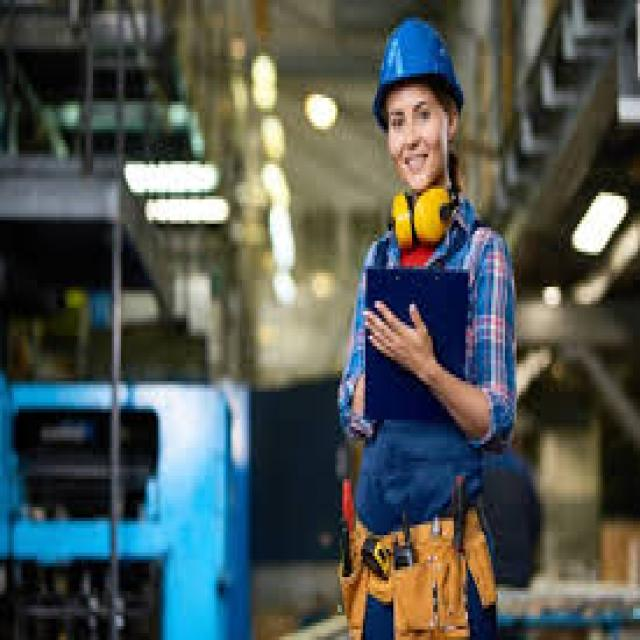Safety-Helmet: (368, 10, 468, 119)
